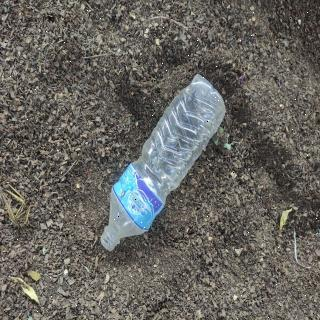Plastic-bottle: (99, 71, 231, 258)
